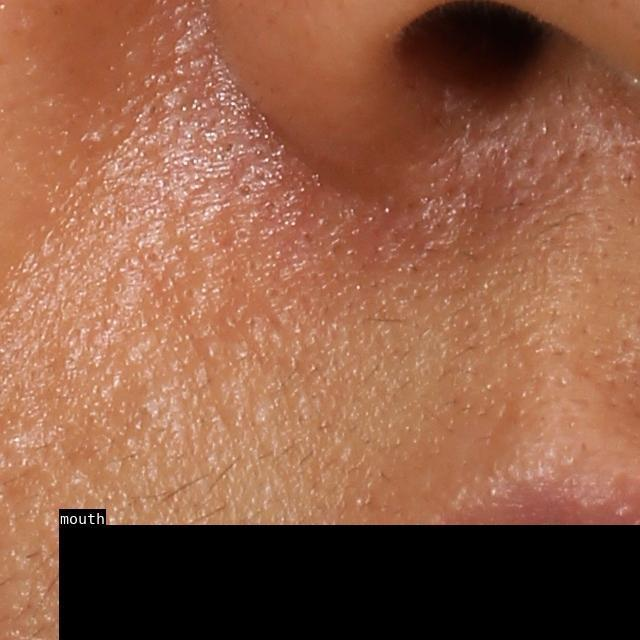comedo: (230, 222, 257, 250), (141, 246, 167, 267), (178, 280, 201, 300), (105, 279, 126, 299)
